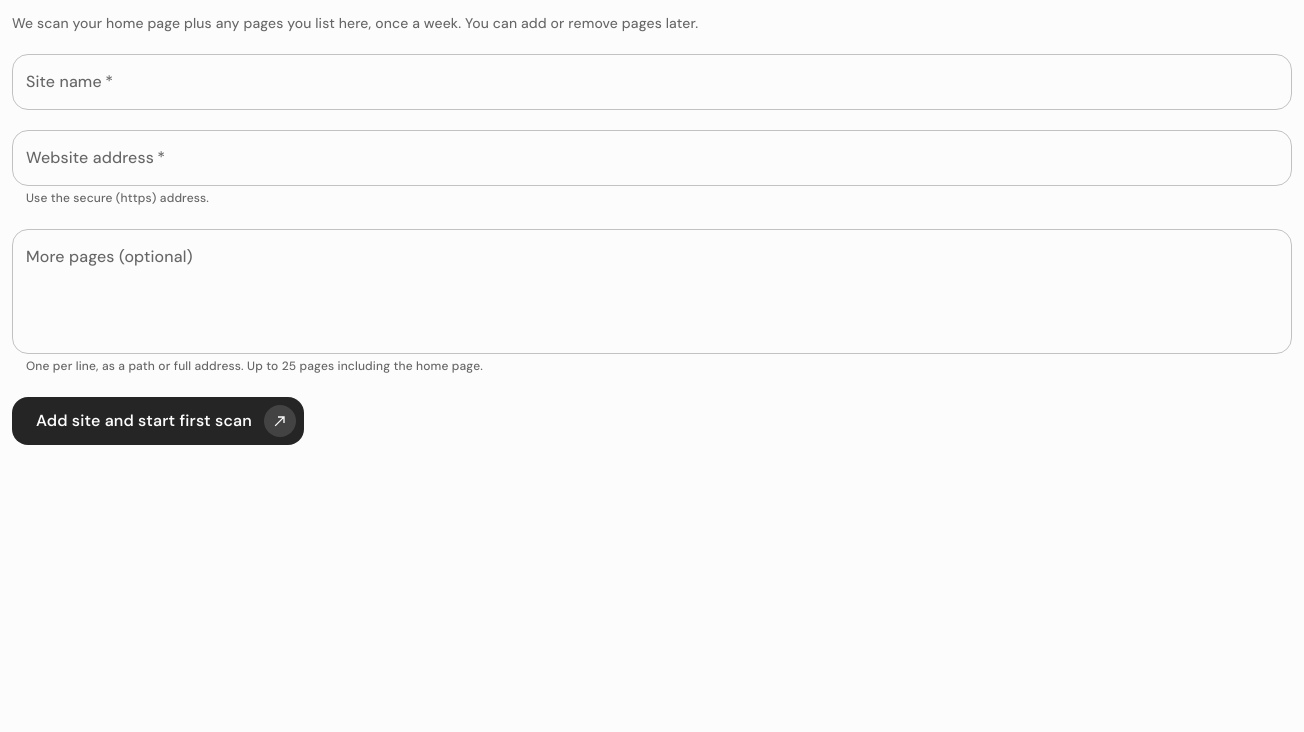
Test: AddSiteForm › shows the server message when creation fails
Type "Shop" into the field labelled "Site name *".
click(652, 82); type("Shop")  # box [12,54,1292,110]
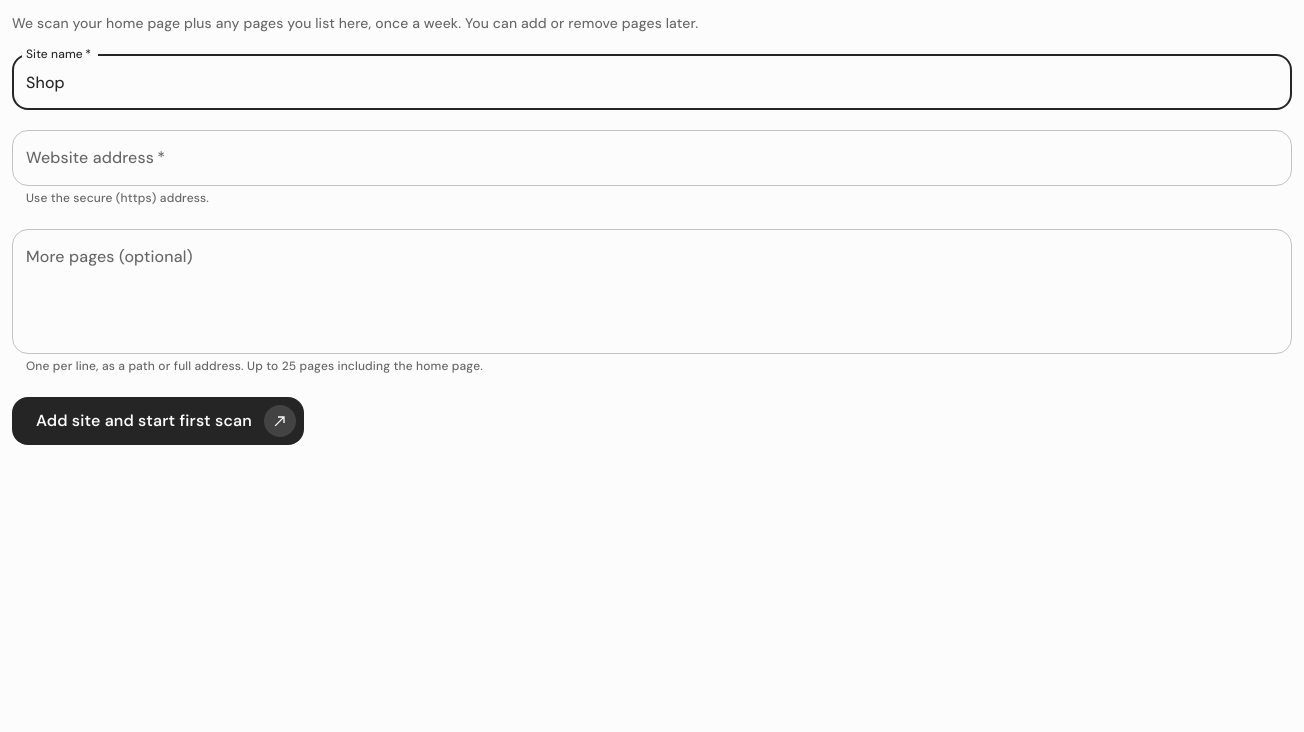
Type "shop.example.com" into the field labelled "Website address *".
click(652, 158); type("shop.example.com")  # box [12,130,1292,186]
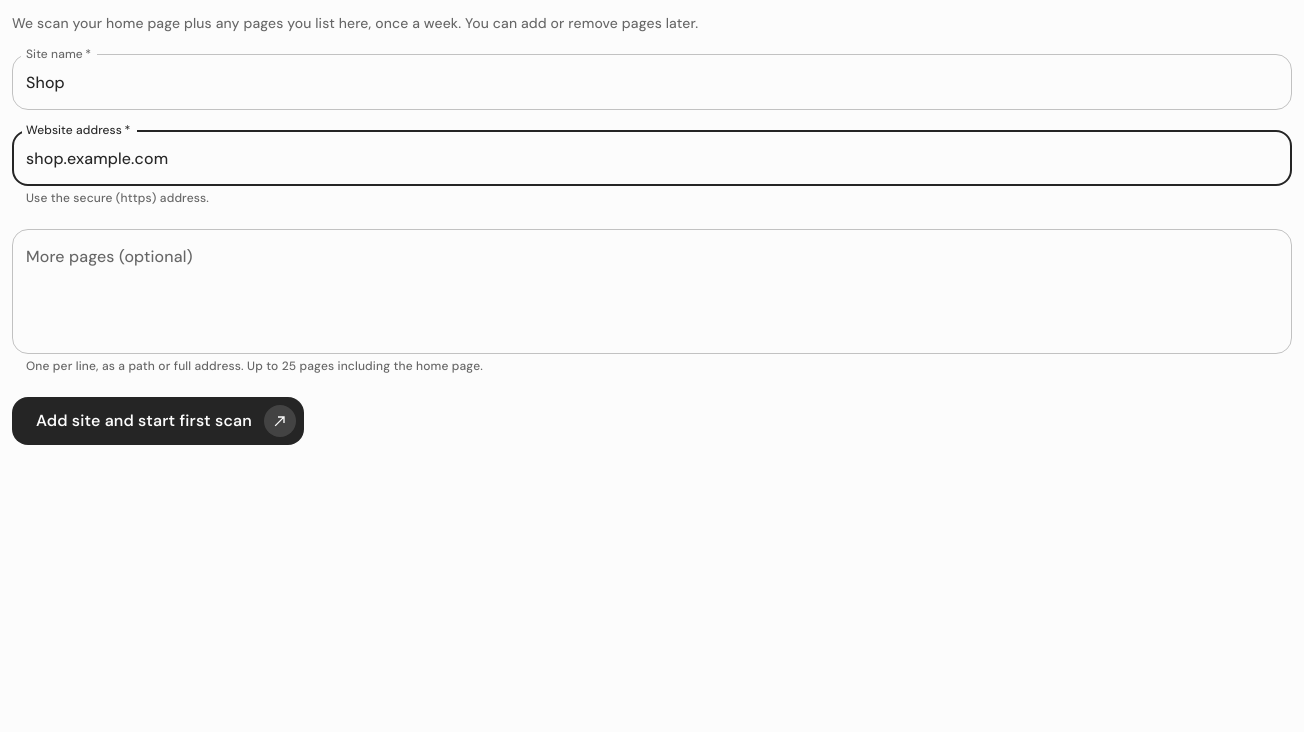
Click the button "Add site and start first scan".
click(158, 421)  # box [12,397,304,445]
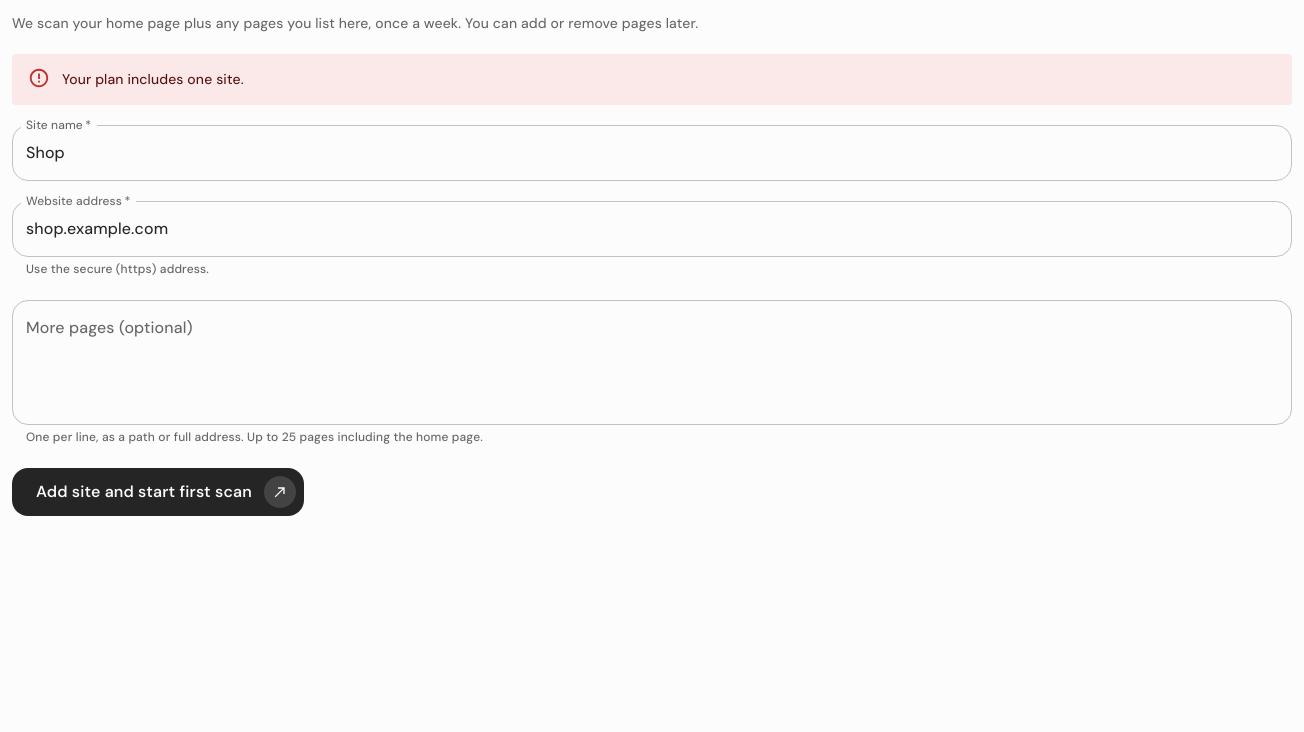
Expected: the message reads "Your plan includes one site.", [62,70,244,88]
